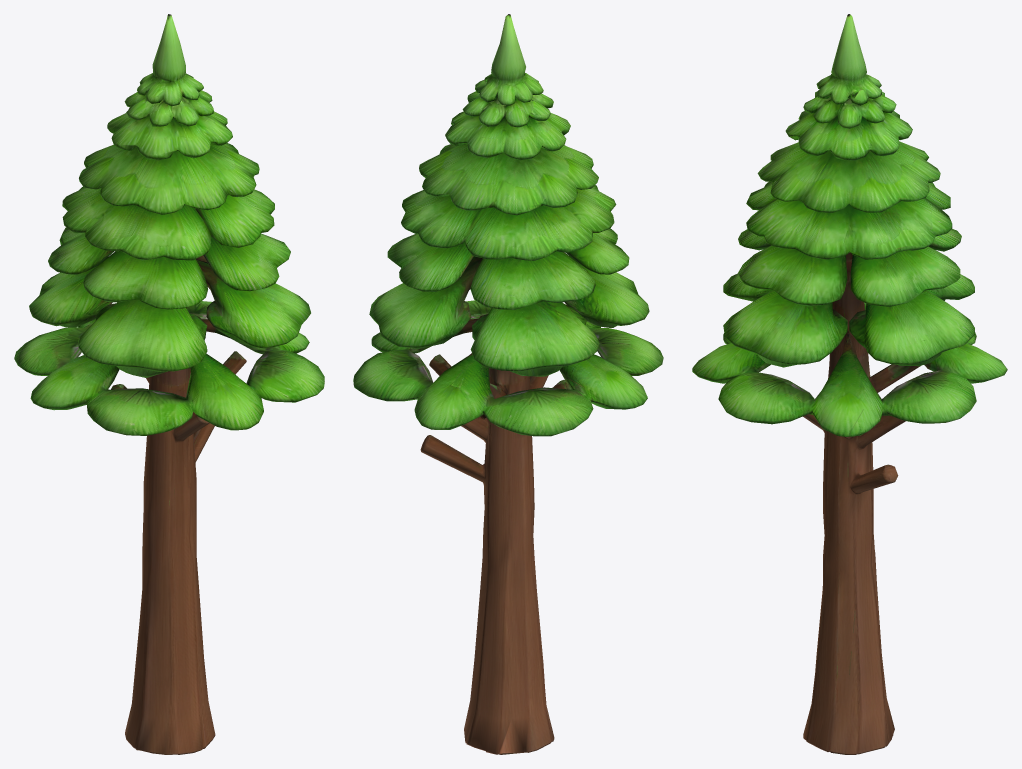
File: tree.glb
3 views of the same model, side by side, from view 1: azimuth 30°, elevation 25°; view 2: azimuth 150°, elevation 25°; view 3: azimuth 270°, elevation 25° (orthographic).
Size of the model in its own units: 0.786 by 2 by 0.7942.
Materials: 1 (1 with a texture image).
